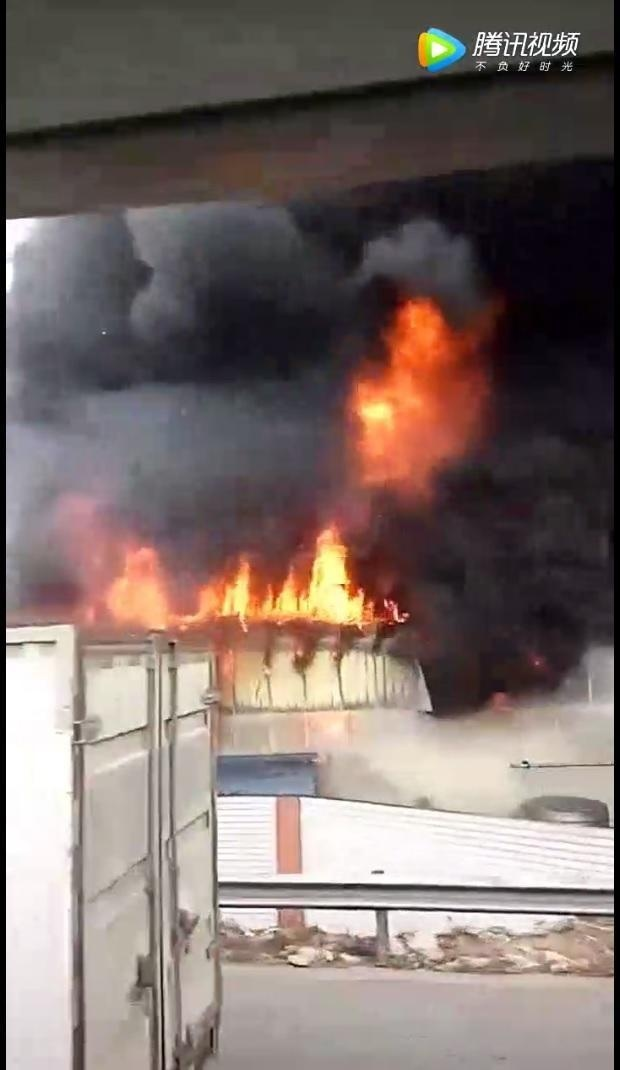fire: (99, 529, 388, 626), (348, 303, 470, 483)
